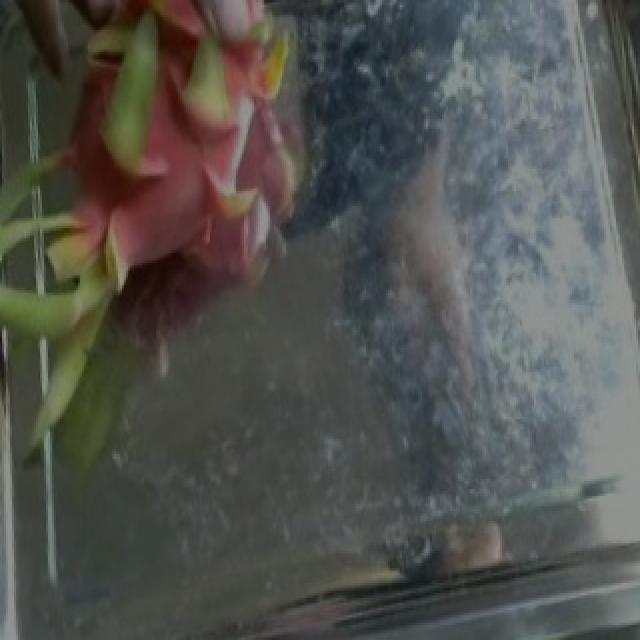fruit: (0, 0, 358, 409)
